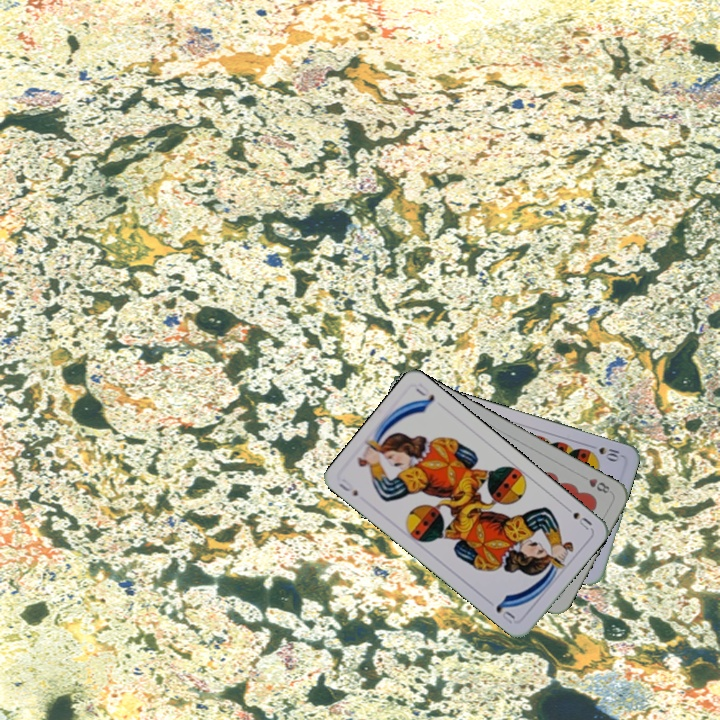H8: (585, 474, 612, 496)
S10: (585, 440, 622, 463)
SU: (560, 502, 595, 533), (335, 475, 361, 499)
